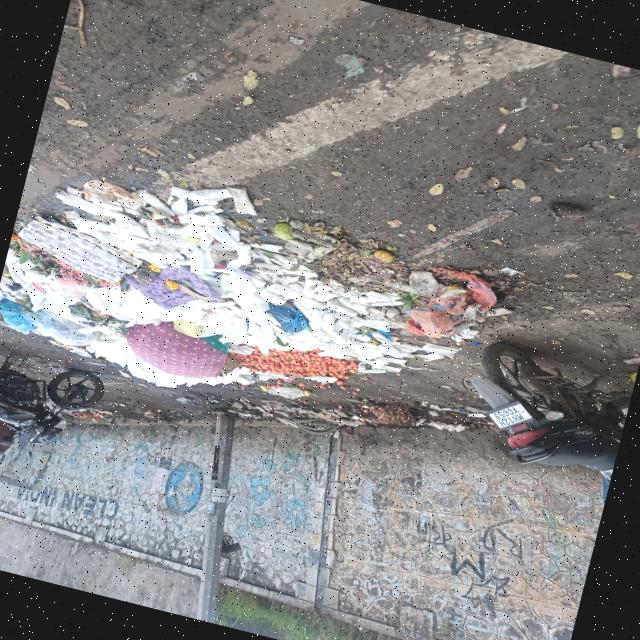garbage: (0, 126, 481, 448)
